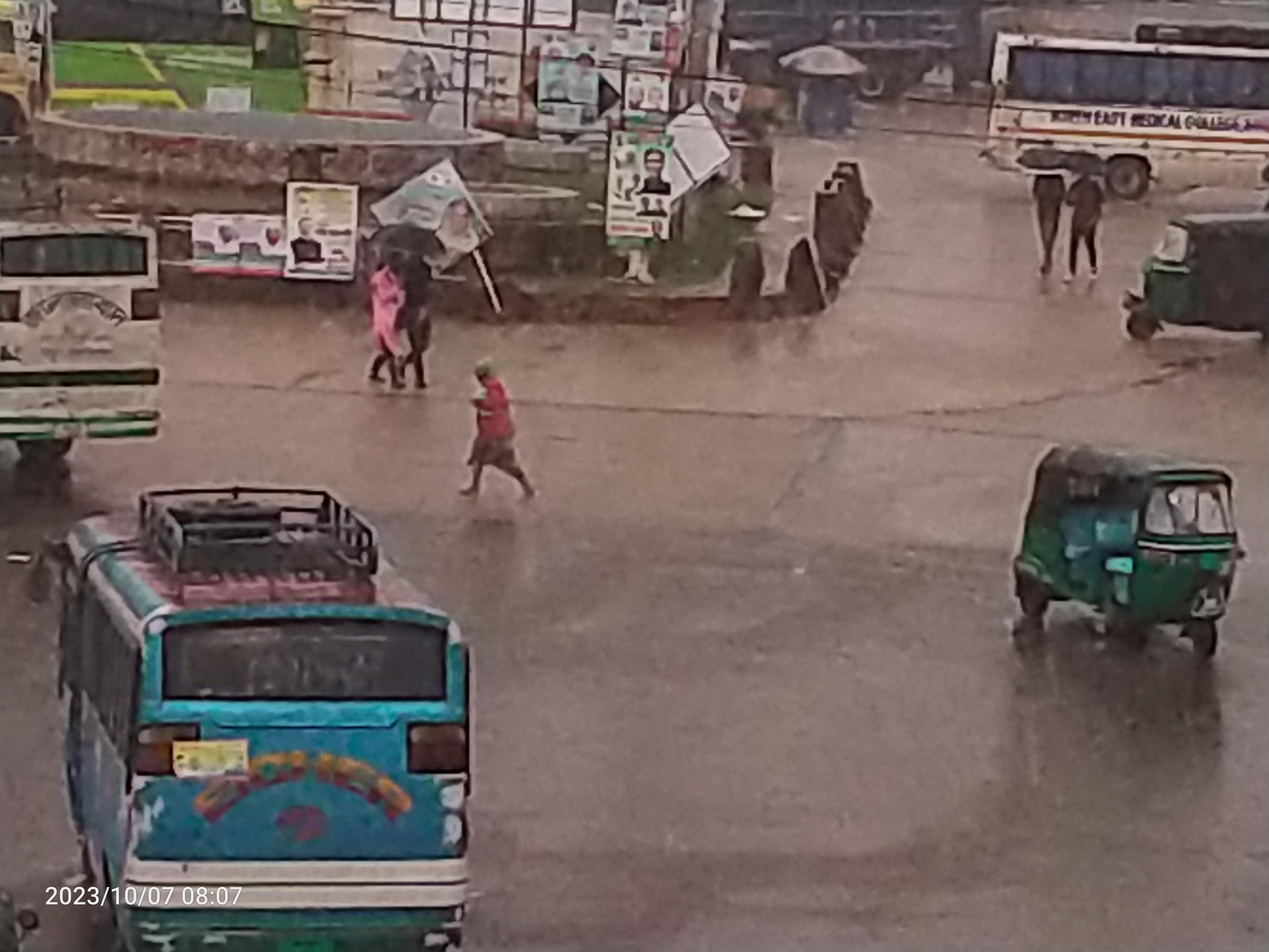Bus: (8, 461, 538, 952), (974, 12, 1269, 216), (0, 178, 198, 474), (0, 0, 328, 134)
